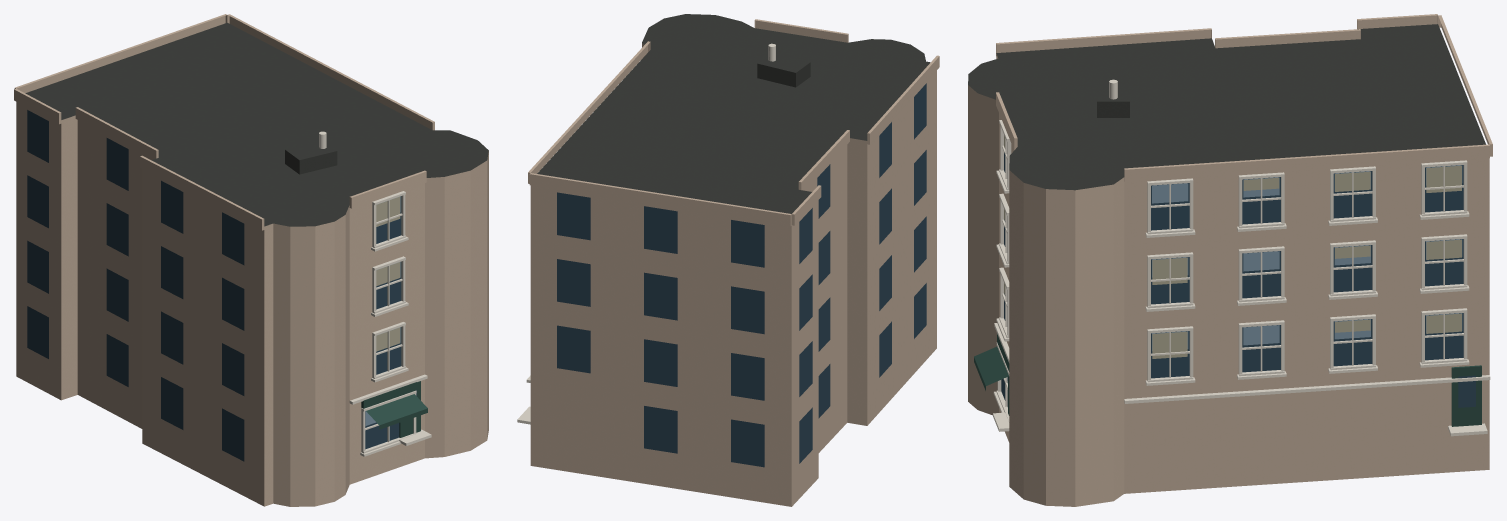
The picture shows the model from 3 angles, left to right: view 1: azimuth 30°, elevation 25°; view 2: azimuth 150°, elevation 25°; view 3: azimuth 270°, elevation 25°; orthographic projection. The views are drawn at different scales.
Parts seen in each view (by area): view 1: Footprint 0 / surface 2, Footprint 0 / surface 1, Inset glazing, Facade bay volumes, Cornices and window frames, Storefronts and doors, Interior blind variation, Inferred rooftop service enclosure / surface 5; view 2: Footprint 0 / surface 2, Footprint 0 / surface 1, Inset glazing, Facade bay volumes, Inferred rooftop service enclosure / surface 6, Inferred rooftop service enclosure / surface 3; view 3: Footprint 0 / surface 2, Footprint 0 / surface 1, Cornices and window frames, Inset glazing, Facade bay volumes, Interior blind variation, Sky reflection panels, Storefronts and doors.
Part boxes in pixels (<box>): Footprint 0 / surface 2: <box>16,102,488,506</box>; Footprint 0 / surface 1: <box>25,22,488,226</box>; Inset glazing: <box>27,110,416,461</box>; Facade bay volumes: <box>14,14,434,230</box>; Cornices and window frames: <box>349,191,431,456</box>; Storefronts and doors: <box>361,381,427,437</box>; Interior blind variation: <box>376,196,400,351</box>; Inferred rooftop service enclosure / surface 5: <box>299,151,337,174</box>; Footprint 0 / surface 2: <box>530,43,936,506</box>; Footprint 0 / surface 1: <box>537,14,930,213</box>; Inset glazing: <box>557,83,926,467</box>; Facade bay volumes: <box>528,19,939,226</box>; Inferred rooftop service enclosure / surface 6: <box>757,63,795,87</box>; Inferred rooftop service enclosure / surface 3: <box>757,53,810,72</box>; Footprint 0 / surface 2: <box>968,53,1489,506</box>; Footprint 0 / surface 1: <box>968,24,1485,190</box>; Cornices and window frames: <box>993,120,1490,436</box>; Inset glazing: <box>1001,152,1475,407</box>; Facade bay volumes: <box>996,14,1492,182</box>; Interior blind variation: <box>1004,135,1461,358</box>; Sky reflection panels: <box>1007,165,1462,381</box>; Storefronts and doors: <box>974,333,1481,426</box>.
Size of the model in its own units: 14.4 by 14 by 19.07.
